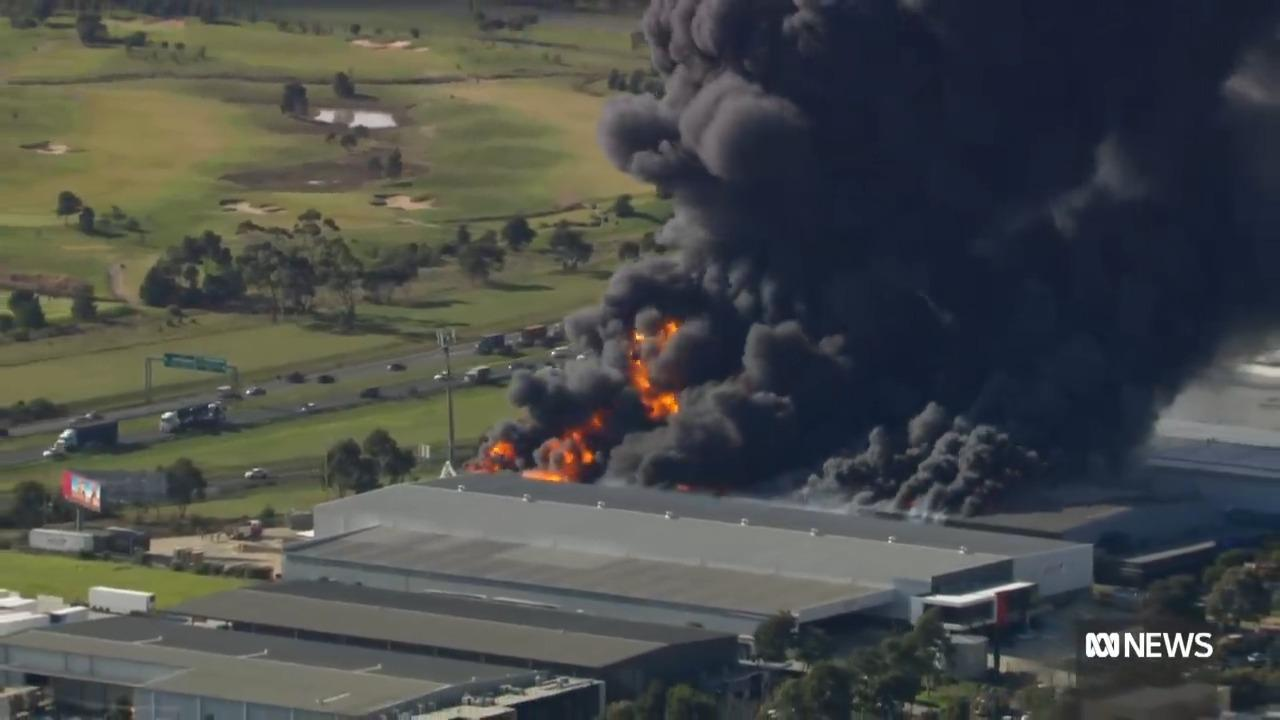fire: (481, 415, 604, 482), (627, 317, 691, 411)
